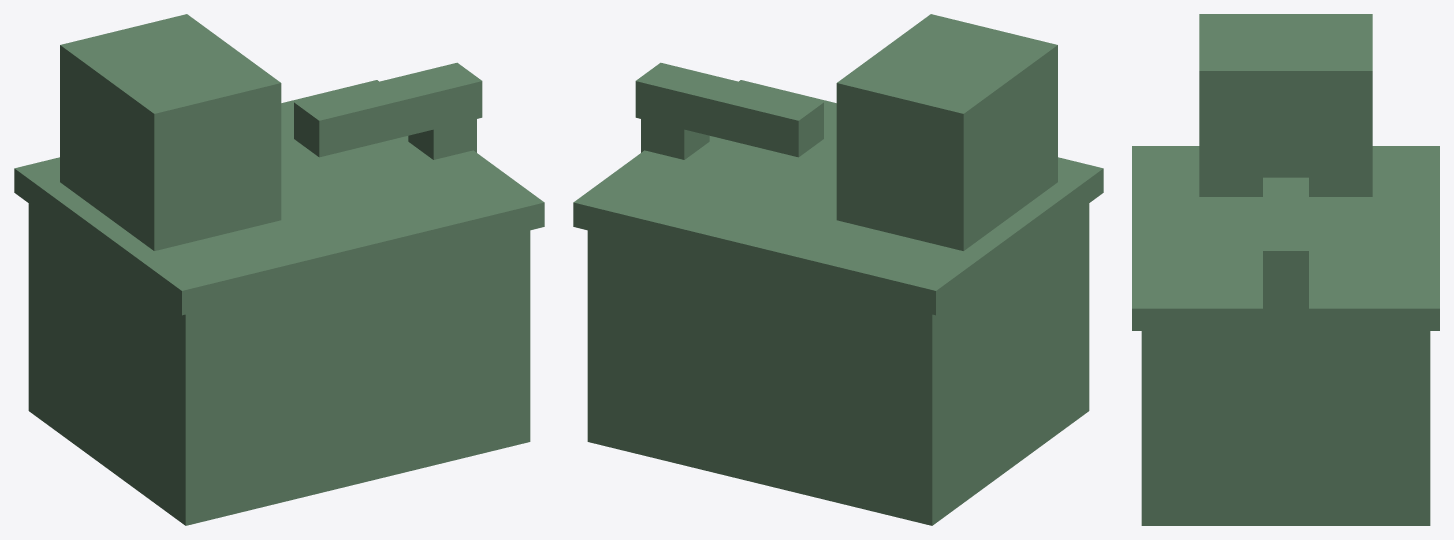
File: packer.glb
3 views of the same model, side by side, from view 1: azimuth 30°, elevation 25°; view 2: azimuth 150°, elevation 25°; view 3: azimuth 270°, elevation 25° (orthographic). The views are drawn at different scales.
Visible parts, largest first — view 1: module.packer; view 2: module.packer; view 3: module.packer.
Part boxes in pixels (x1,y1,x2,y2): module.packer: (14, 14, 544, 525); module.packer: (573, 14, 1103, 525); module.packer: (1132, 14, 1439, 525).
Size of the model in its own units: 1 by 1 by 0.7805.
